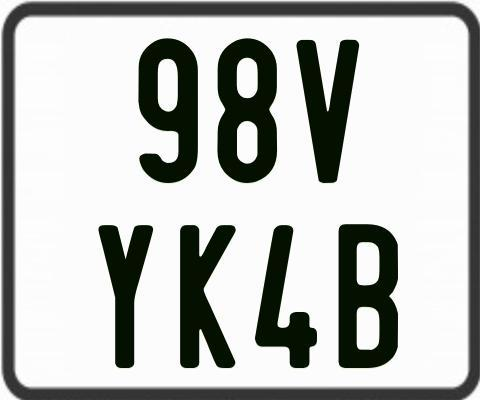4: (253, 222, 319, 371)
8: (214, 35, 280, 185)
9: (138, 36, 201, 183)
B: (337, 221, 401, 370)
K: (177, 224, 237, 371)
V: (294, 37, 357, 185)
Y: (98, 222, 153, 368)
